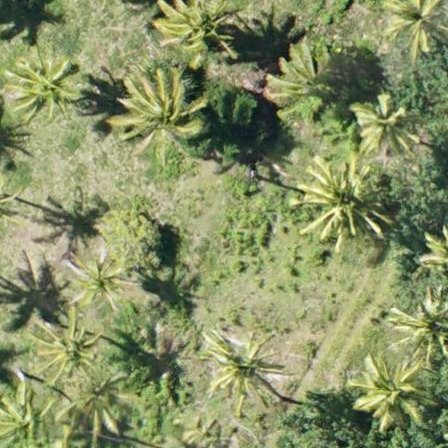palm_tree: (125, 77, 200, 157), (269, 41, 343, 112), (4, 50, 73, 123), (305, 161, 372, 232), (211, 332, 275, 403), (64, 249, 129, 317), (165, 1, 239, 60), (351, 358, 415, 426), (344, 87, 407, 154), (63, 369, 127, 432), (1, 388, 59, 448), (42, 318, 98, 378), (395, 296, 448, 355), (393, 1, 448, 53)
